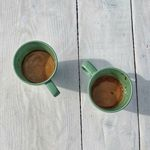cups: (10, 38, 68, 99), (79, 58, 135, 115)
